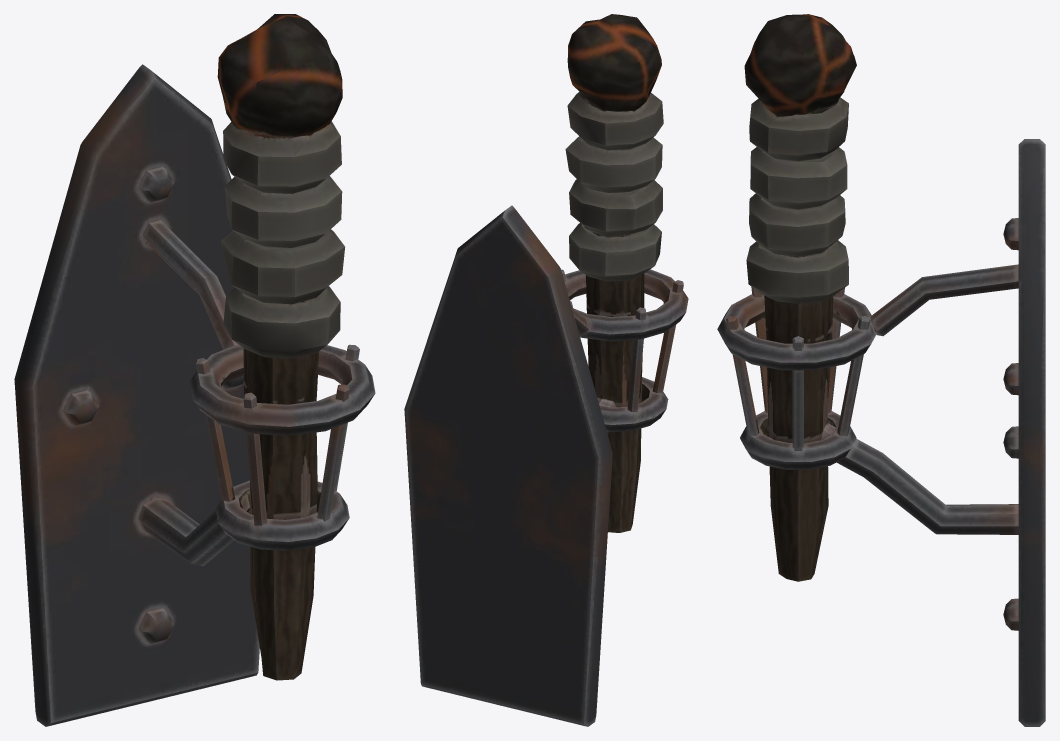
The model's file is torch_sconce.glb.
3 renders of one model, left to right at view 1: azimuth 30°, elevation 25°; view 2: azimuth 150°, elevation 25°; view 3: azimuth 270°, elevation 25°, orthographic. The views are drawn at different scales.
Parts seen in each view (by area): view 1: torch_sconce; view 2: torch_sconce; view 3: torch_sconce.
Boxes of the visible parts, x1,y1,x2,y2 form: torch_sconce: [14, 14, 375, 726]; torch_sconce: [404, 14, 688, 726]; torch_sconce: [717, 14, 1045, 726].
Size of the model in its own units: 0.17 by 0.4901 by 0.219.
Materials: 1 (1 with a texture image).
